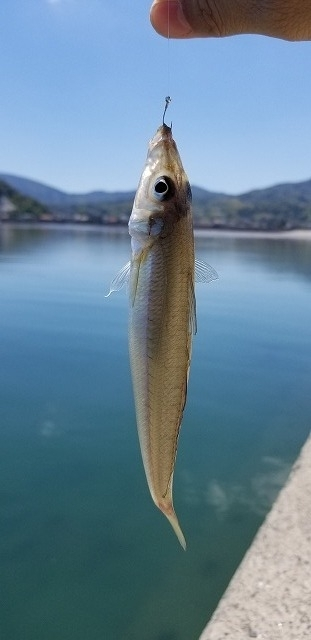kiss: (121, 122, 206, 549)
